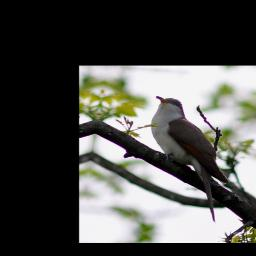Cuckoo: (134, 96, 244, 225)
